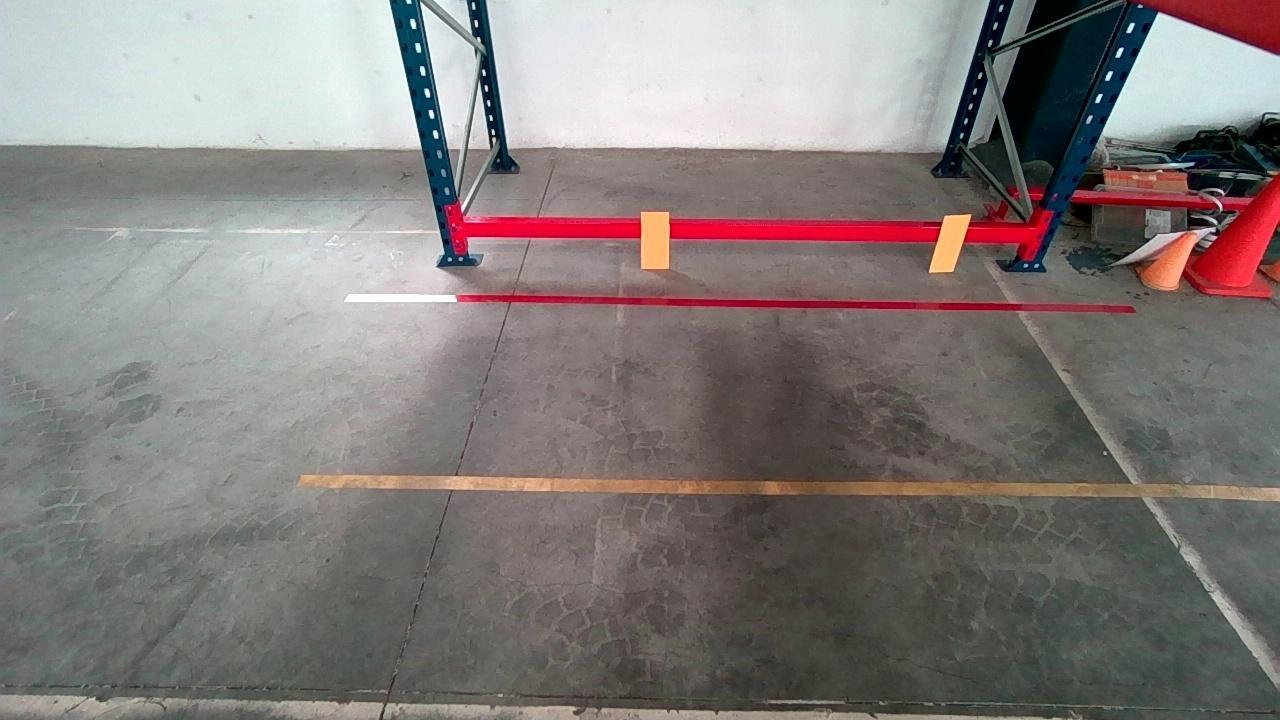h_rack: (462, 212, 1031, 242)
orange_strip: (929, 214, 974, 272), (641, 210, 671, 269)
red_line: (338, 288, 1141, 316)
yellow_line: (289, 465, 1276, 505)
